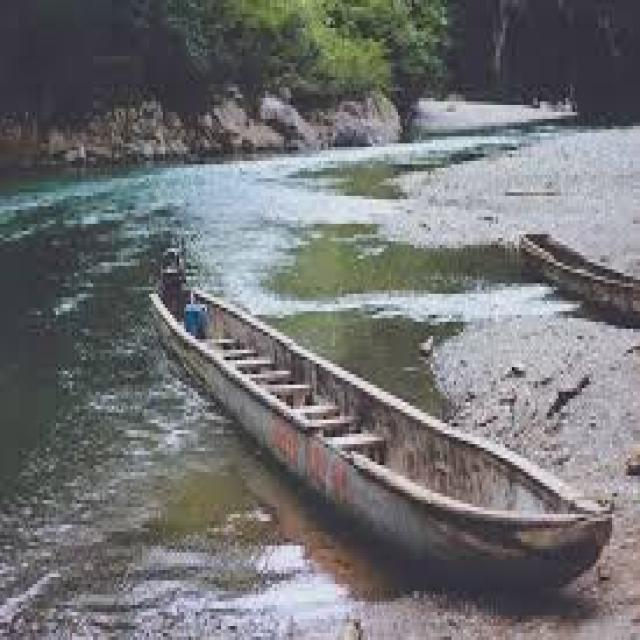ship2: (149, 250, 614, 594)
